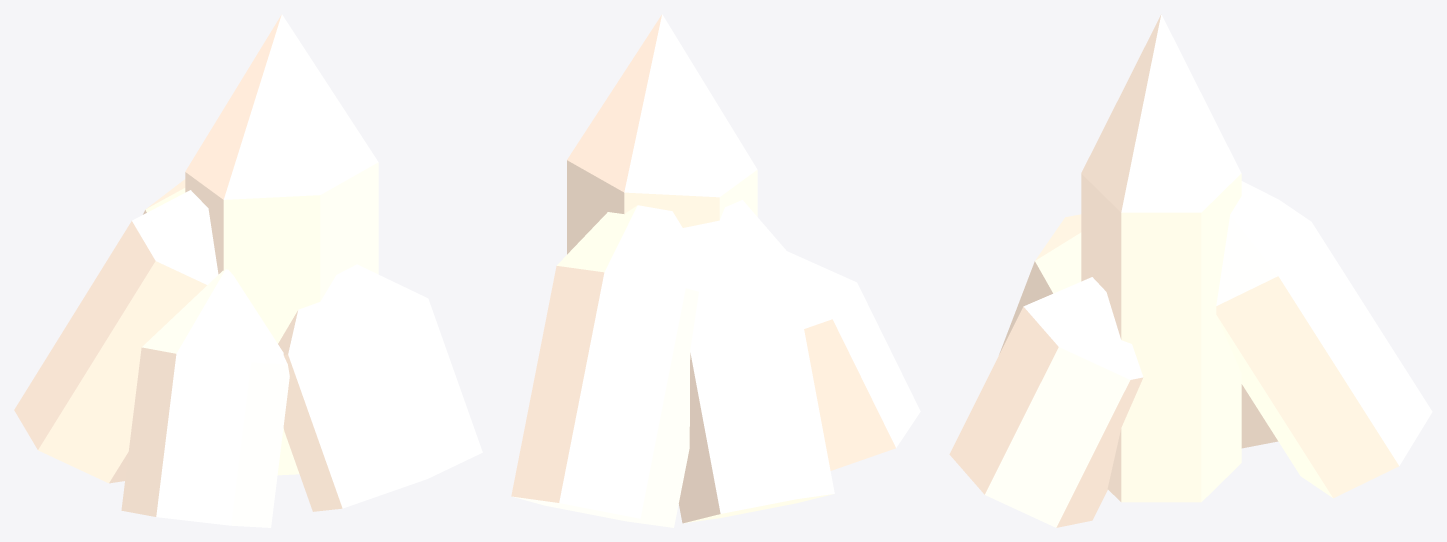
Rendered from cryst3.glb.
3 views of the same model, side by side, from view 1: azimuth 30°, elevation 25°; view 2: azimuth 150°, elevation 25°; view 3: azimuth 270°, elevation 25° (orthographic). The views are drawn at different scales.
Visible parts, largest first — view 1: shard; view 2: shard; view 3: shard.
Part boxes in pixels (left/top/right/bottom): shard: left=14, top=14, right=482, bottom=527; shard: left=511, top=14, right=920, bottom=527; shard: left=949, top=14, right=1432, bottom=527.
Bounding box in the file's own units: 4.82 × 6.48 × 5.86.
